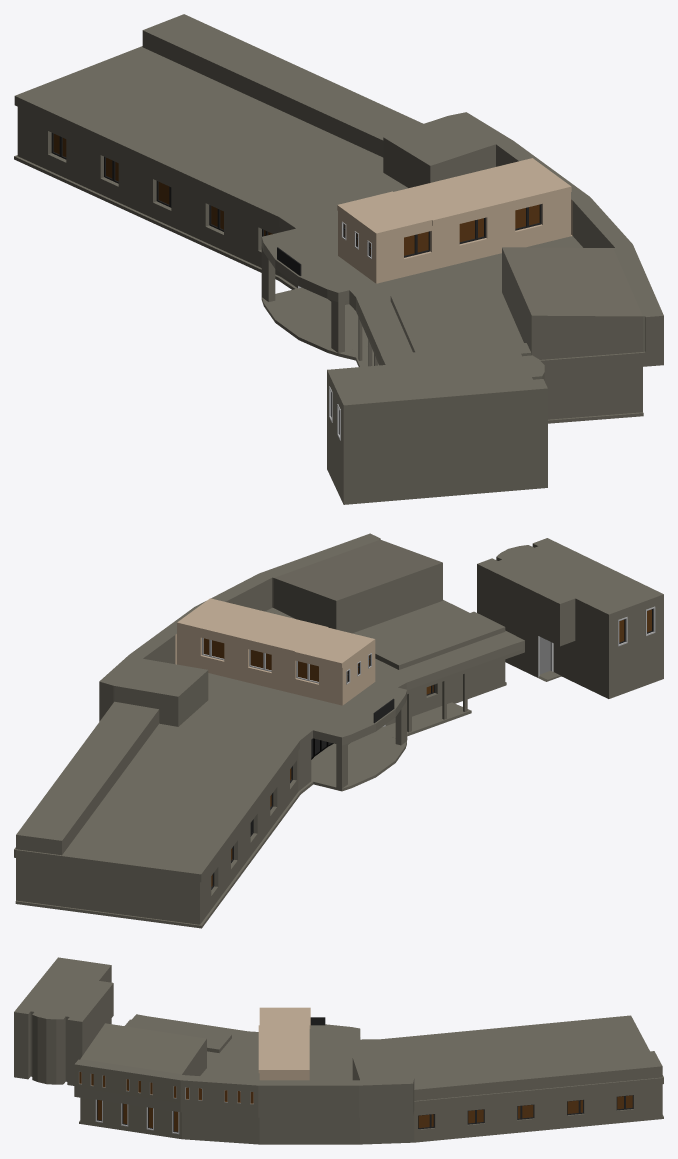
File: usthb_infofac.glb
The picture shows the model from 3 angles, top to bottom: view 1: azimuth 30°, elevation 25°; view 2: azimuth 150°, elevation 25°; view 3: azimuth 270°, elevation 25°; orthographic projection. The views are drawn at different scales.
Parts seen in each view (by area): view 1: dep info; view 2: dep info; view 3: dep info.
Part boxes in pixels (<box>): dep info: <box>14,14,663,504</box>; dep info: <box>14,533,663,928</box>; dep info: <box>14,957,663,1144</box>.
Bounding box in the file's own units: 65.86 × 17.93 × 141.
Materials: 1 (1 with a texture image).
